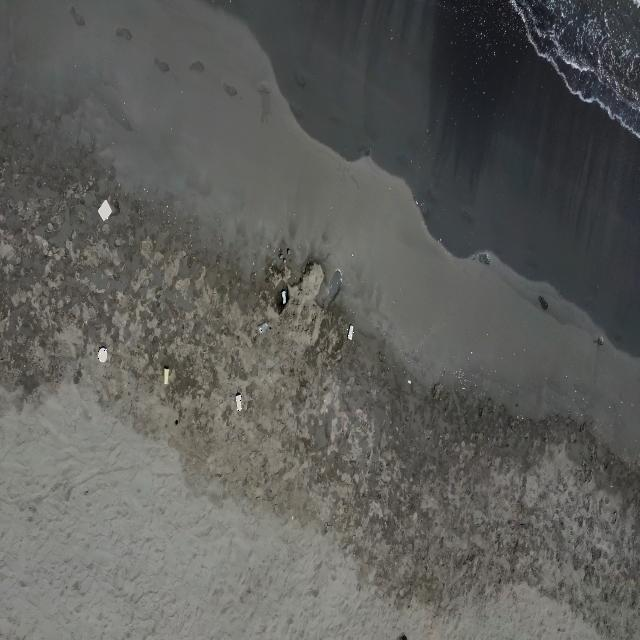take-away-containers: (97, 200, 112, 222), (98, 347, 107, 363)
takeaway-cup: (235, 393, 242, 413), (163, 366, 170, 386), (258, 322, 268, 334), (347, 324, 354, 341), (281, 289, 286, 305)
